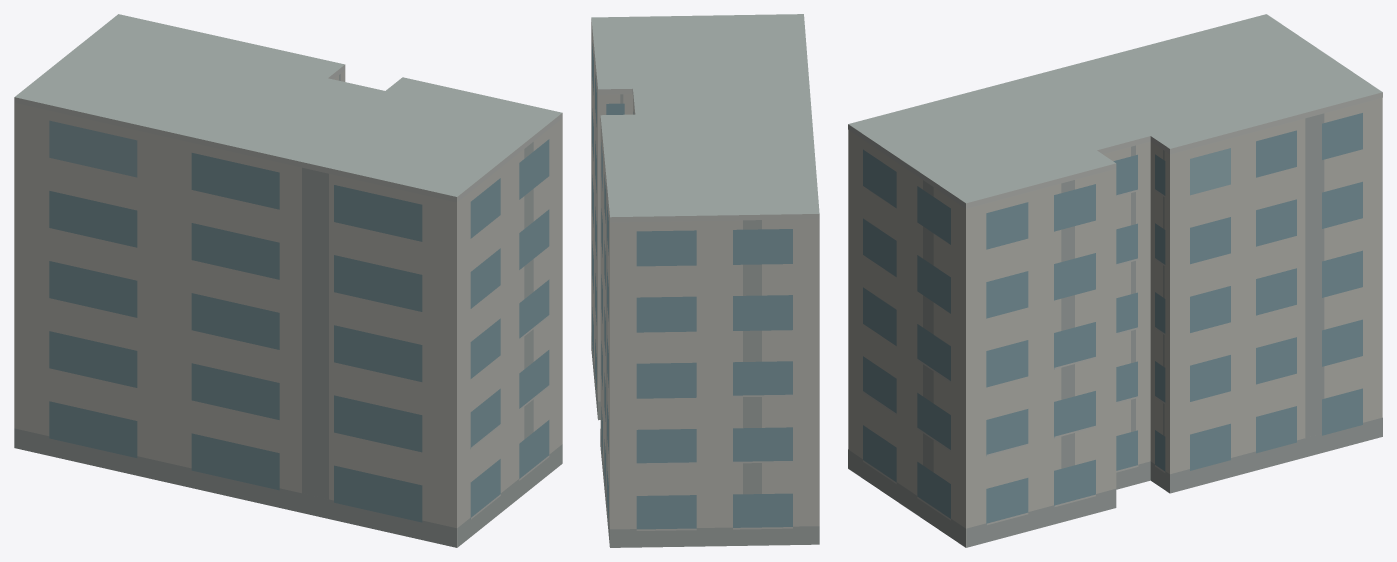
Rendered from survey-upis-32760781.glb.
The picture shows the model from 3 angles, left to right: view 1: azimuth 30°, elevation 25°; view 2: azimuth 150°, elevation 25°; view 3: azimuth 270°, elevation 25°; orthographic projection. The views are drawn at different scales.
Visible parts, largest first — view 1: survey-upis-32760781.tmp; view 2: survey-upis-32760781.tmp; view 3: survey-upis-32760781.tmp.
Boxes of the visible parts, x1,y1,x2,y2 form: survey-upis-32760781.tmp: (14, 14, 562, 547); survey-upis-32760781.tmp: (591, 14, 819, 547); survey-upis-32760781.tmp: (848, 14, 1382, 547).
Bounding box in the file's own units: 17.98 × 15.25 × 21.46.
